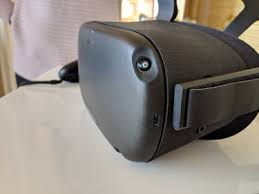oculus: (78, 17, 256, 166)
